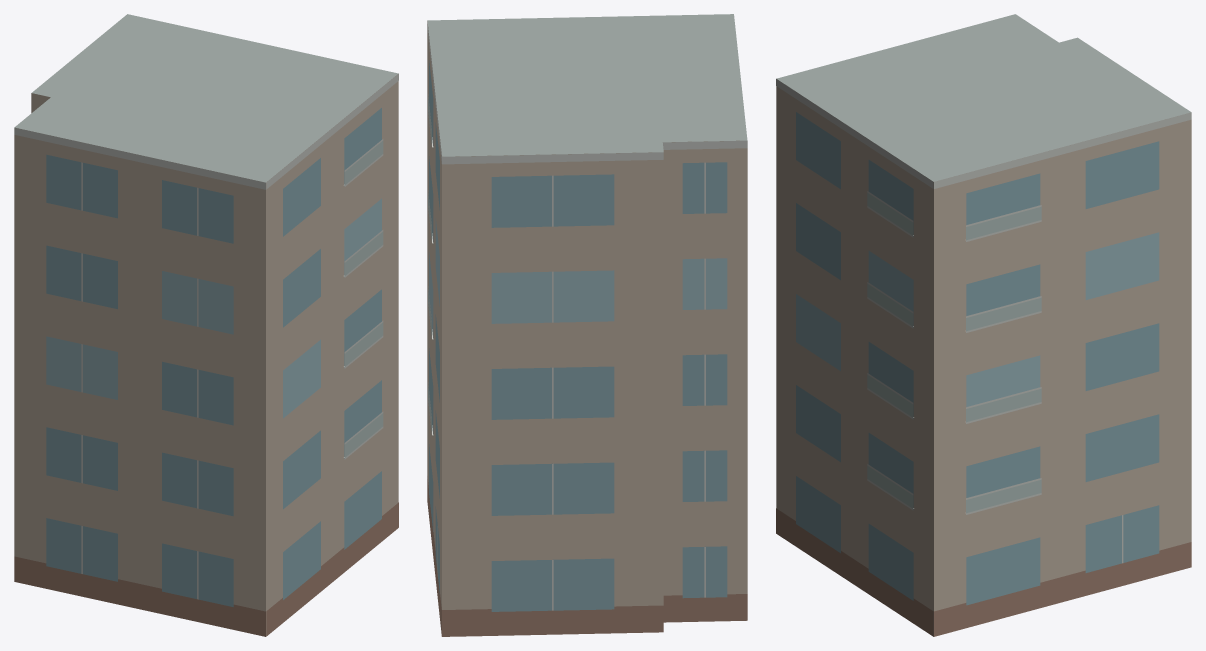
Rendered from survey-upis-32694374.glb.
3 views of the same model, side by side, from view 1: azimuth 30°, elevation 25°; view 2: azimuth 150°, elevation 25°; view 3: azimuth 270°, elevation 25° (orthographic). The views are drawn at different scales.
Visible parts, largest first — view 1: survey-upis-32694374.tmp; view 2: survey-upis-32694374.tmp; view 3: survey-upis-32694374.tmp.
Boxes of the visible parts, x1,y1,x2,y2 form: survey-upis-32694374.tmp: [14, 14, 398, 636]; survey-upis-32694374.tmp: [427, 14, 747, 636]; survey-upis-32694374.tmp: [776, 14, 1191, 636].
Bounding box in the file's own units: 12.08 × 15.25 × 12.63.
